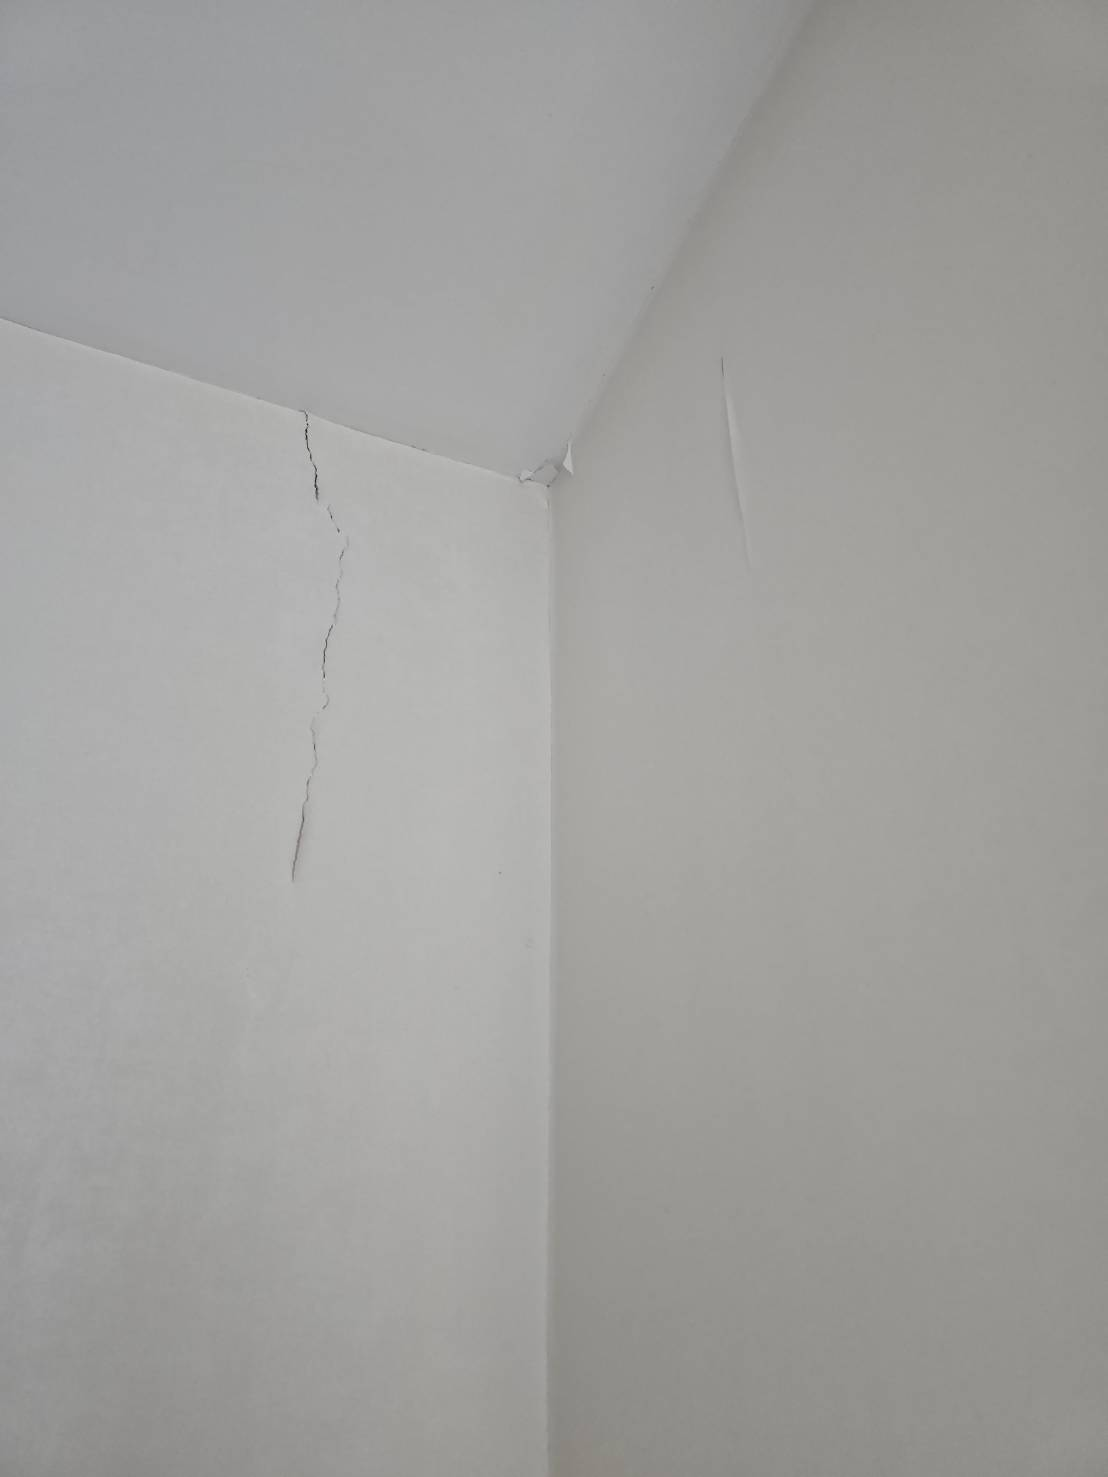Low: (220, 393, 385, 957)
